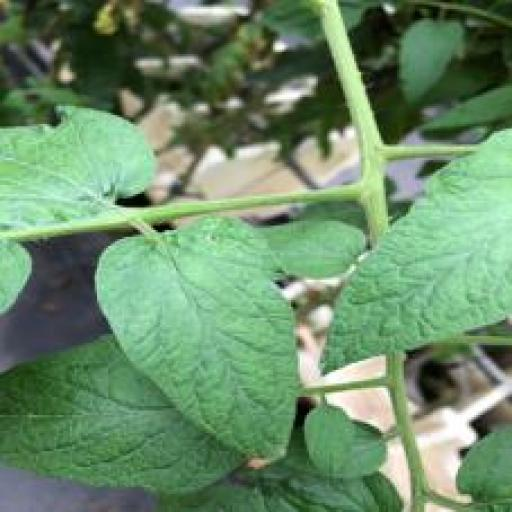Healthy: (95, 212, 300, 463), (317, 119, 512, 377), (0, 332, 247, 498)
